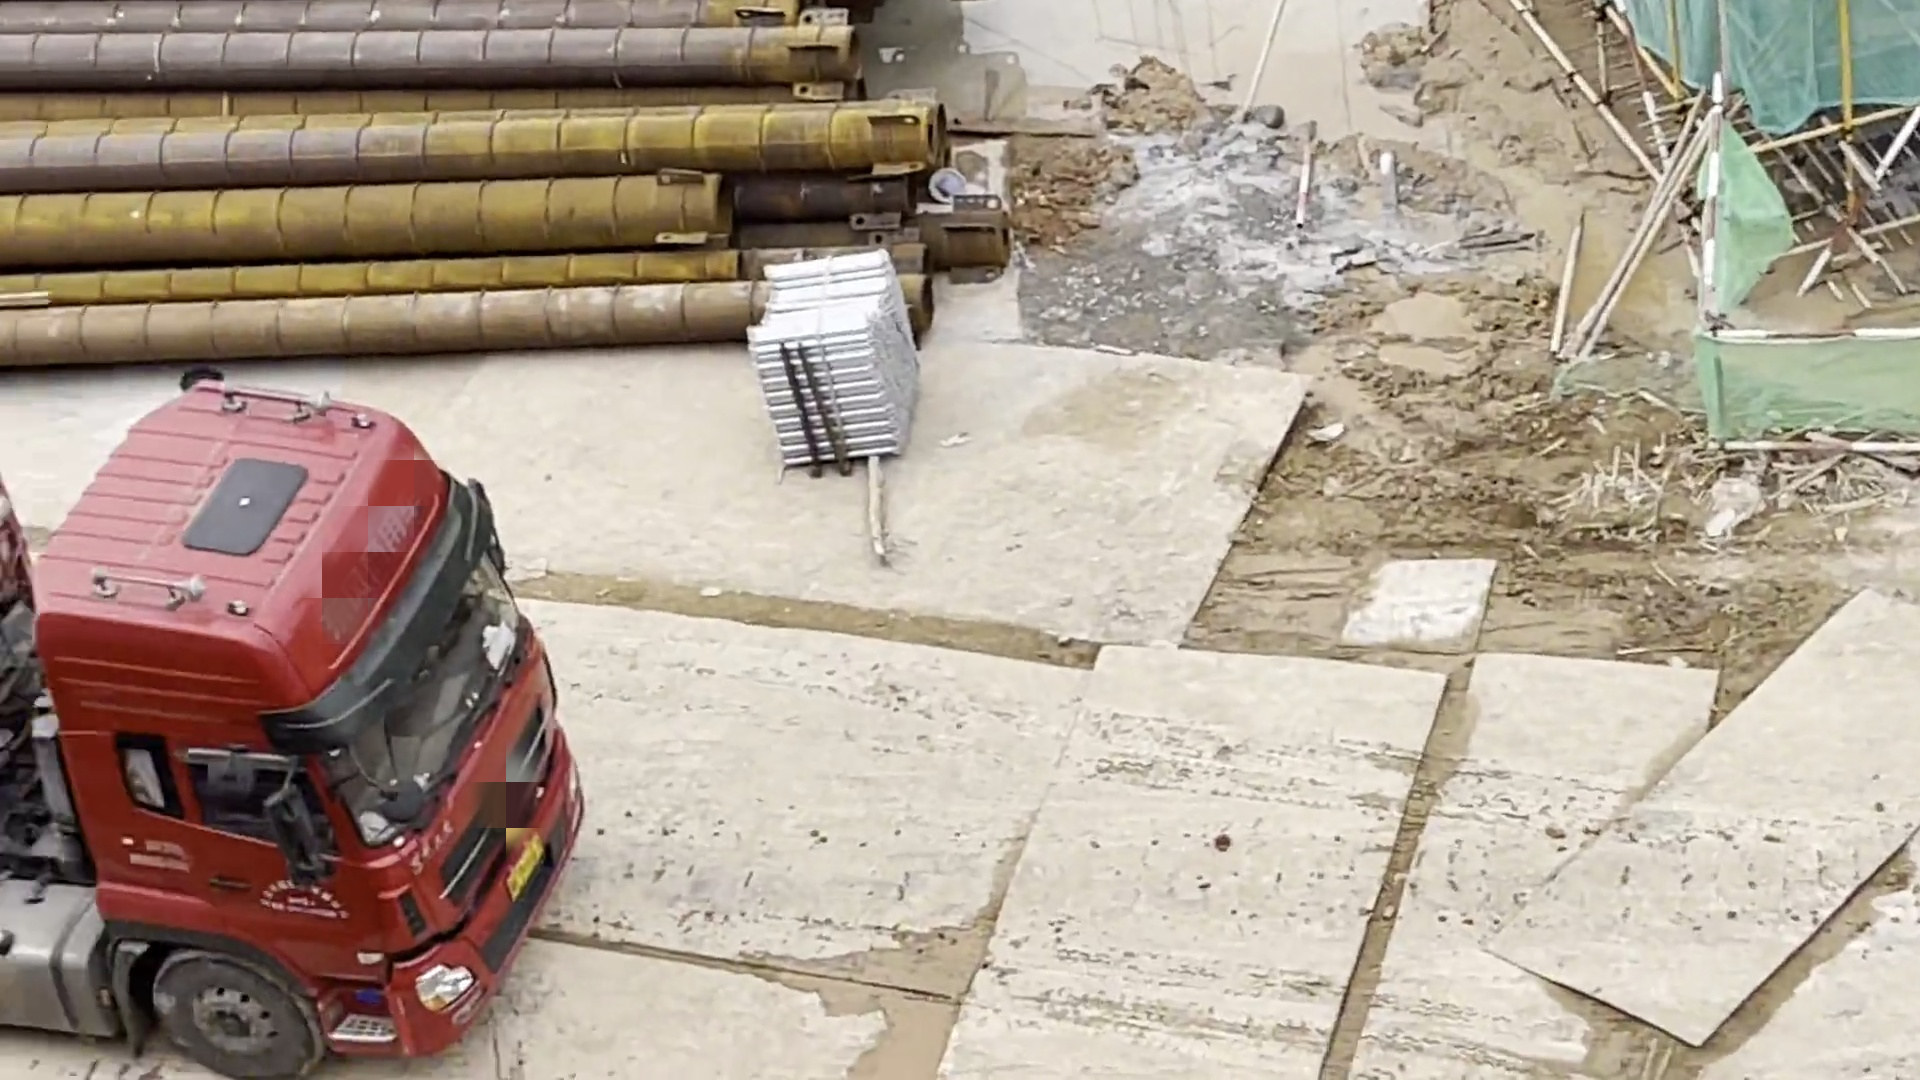scaffold: (746, 247, 922, 468)
